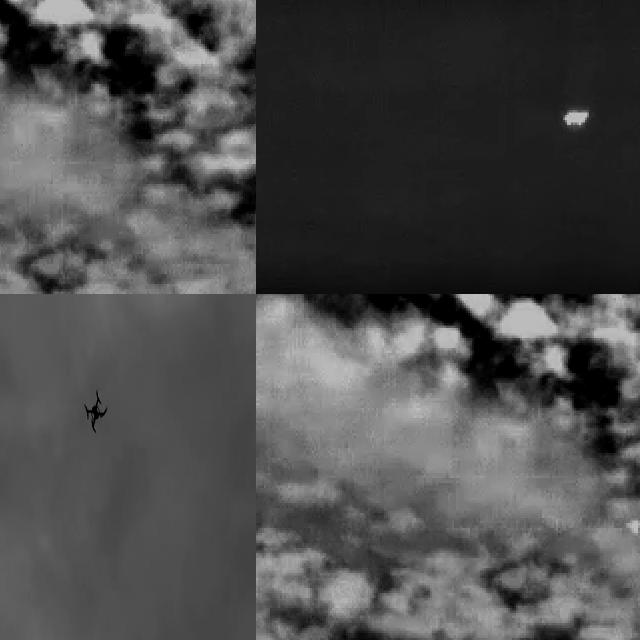0: (620, 510, 640, 545)
1: (557, 105, 601, 137)
drone: (82, 383, 109, 429)
